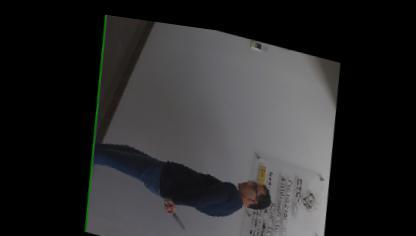knife: (157, 191, 187, 226)
